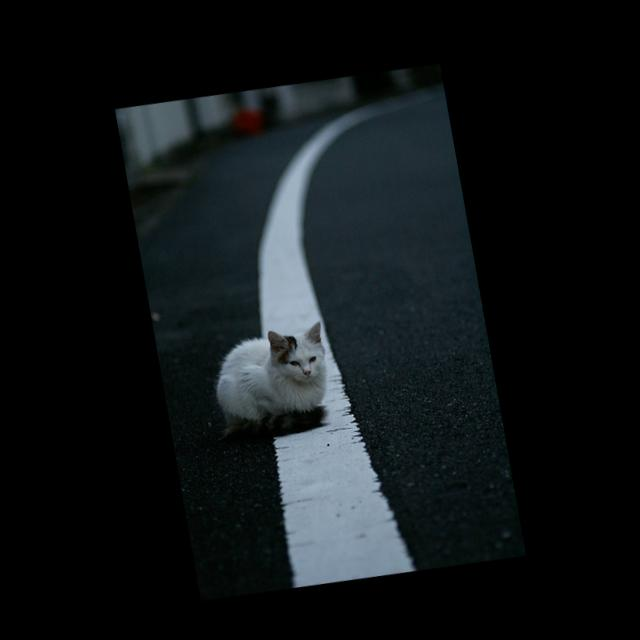animals: (268, 316, 326, 377)
